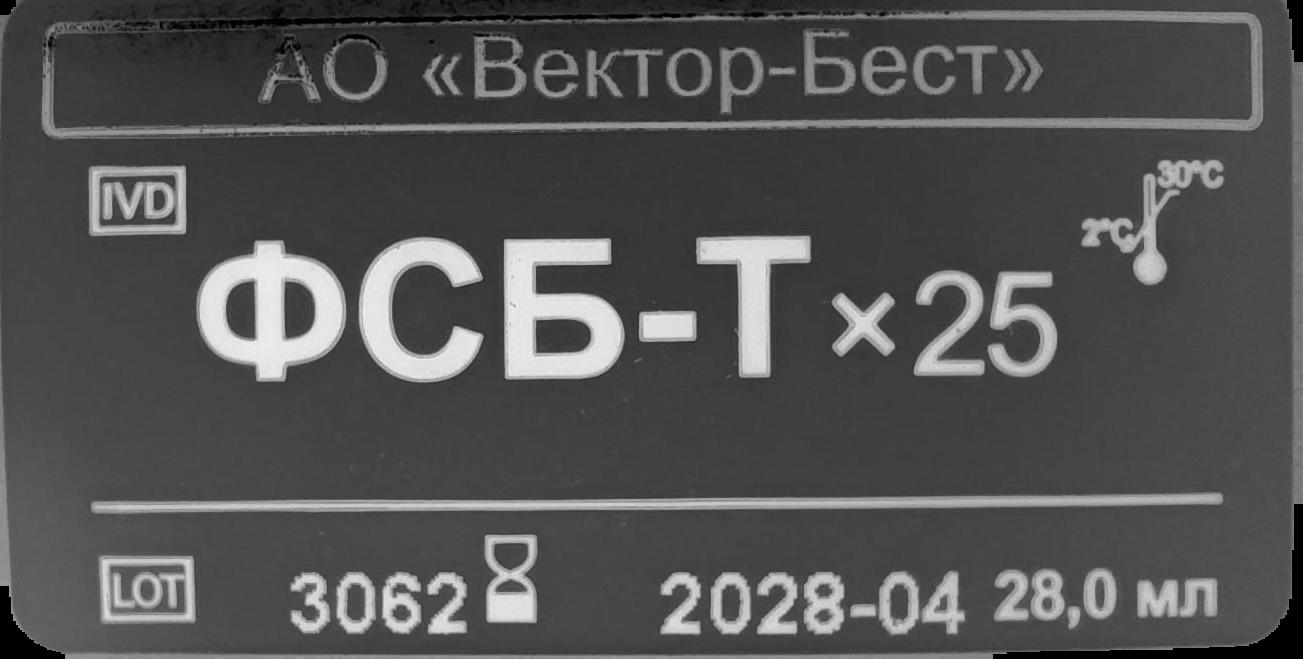something: (1075, 150, 1226, 297), (98, 552, 206, 629), (84, 160, 189, 236), (478, 533, 548, 626)
text: (190, 235, 1075, 387), (249, 29, 1052, 118), (654, 560, 967, 643), (987, 563, 1221, 634), (285, 560, 469, 640)
